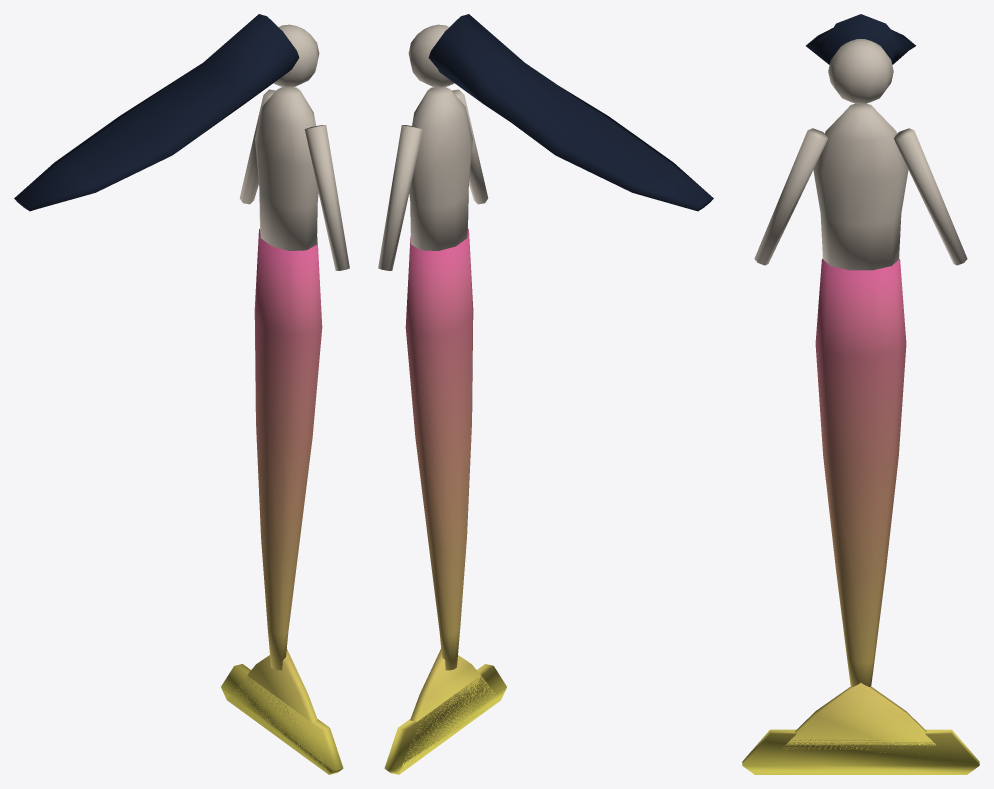
The model's file is mermaid.glb.
3 renders of one model, left to right at view 1: azimuth 30°, elevation 25°; view 2: azimuth 150°, elevation 25°; view 3: azimuth 270°, elevation 25°, orthographic. The views are drawn at different scales.
Visible parts, largest first — view 1: Mermaid; view 2: Mermaid; view 3: Mermaid.
Boxes of the visible parts, x1=… form: Mermaid: x1=14, y1=14, x2=349, y2=774; Mermaid: x1=378, y1=14, x2=713, y2=774; Mermaid: x1=742, y1=14, x2=979, y2=774.
Bounding box in the file's own units: 1.4 × 3.28 × 0.9399.
